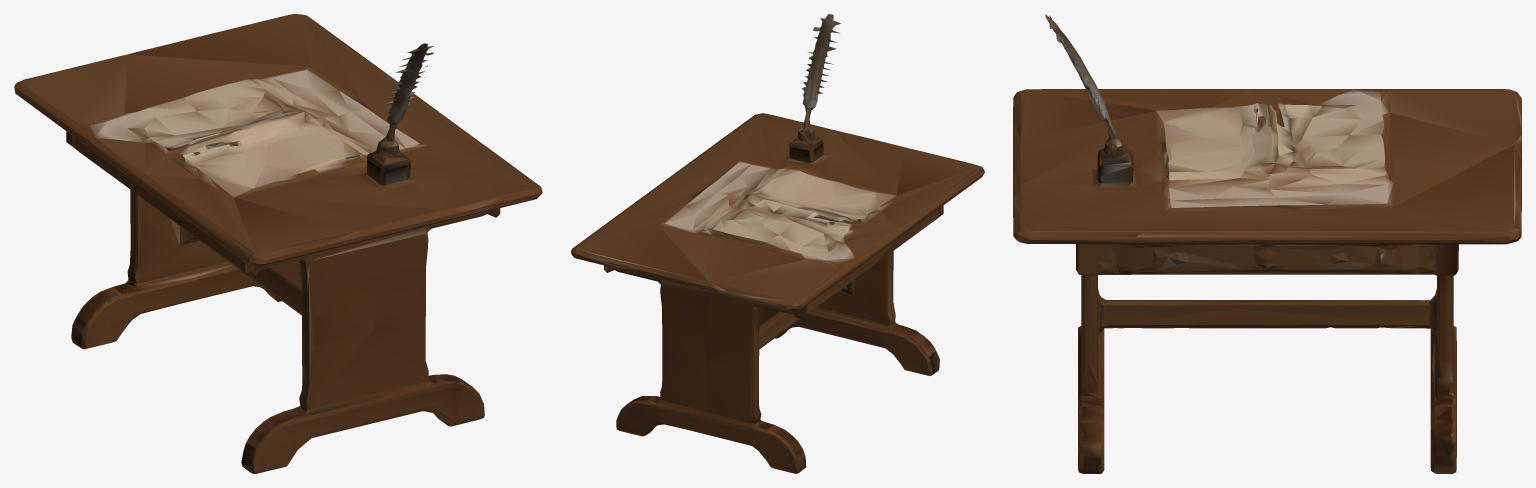
The model's file is table.glb.
3 views of the same model, side by side, from view 1: azimuth 30°, elevation 25°; view 2: azimuth 150°, elevation 25°; view 3: azimuth 270°, elevation 25° (orthographic). The views are drawn at different scales.
Parts seen in each view (by area): view 1: table; view 2: table; view 3: table.
Boxes of the visible parts, left/top/right/bottom form: table: left=14, top=14, right=542, bottom=473; table: left=571, top=14, right=984, bottom=473; table: left=1013, top=14, right=1521, bottom=473.
Size of the model in its own units: 3.4 by 4.48 by 4.91.
